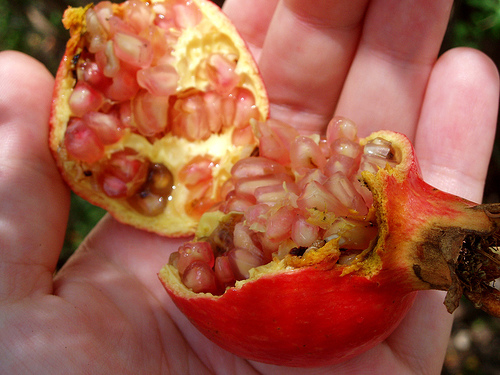pomogranate: (156, 119, 499, 366), (49, 0, 270, 238)
